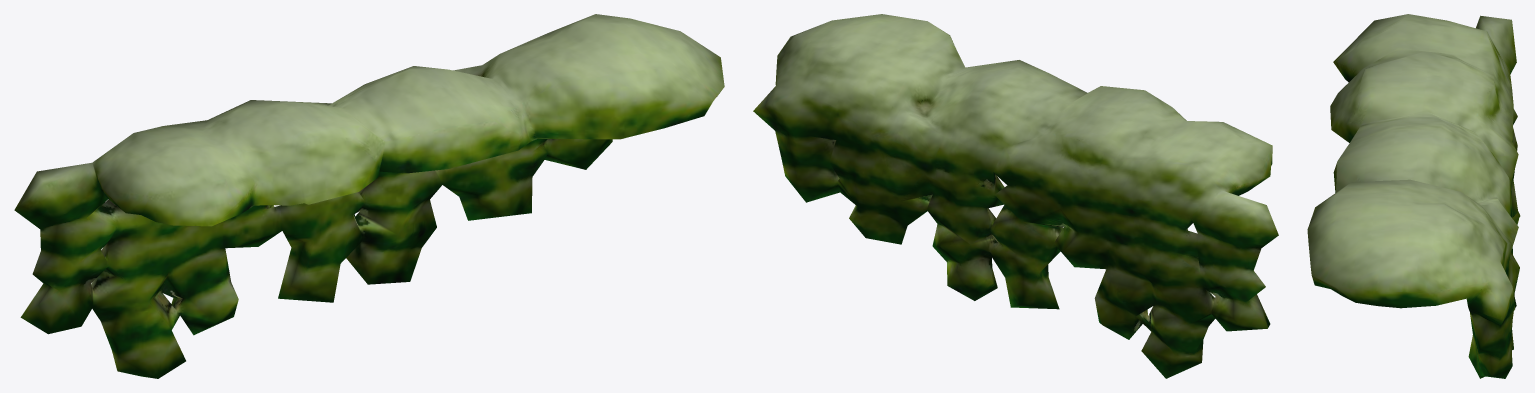
The model's file is moss_drape.glb.
The picture shows the model from 3 angles, left to right: view 1: azimuth 30°, elevation 25°; view 2: azimuth 150°, elevation 25°; view 3: azimuth 270°, elevation 25°; orthographic projection. The views are drawn at different scales.
Parts seen in each view (by area): view 1: moss; view 2: moss; view 3: moss.
Boxes of the visible parts, x1=… form: moss: x1=14, y1=14, x2=724, y2=378; moss: x1=753, y1=14, x2=1278, y2=378; moss: x1=1307, y1=14, x2=1520, y2=378.
Size of the model in its own units: 0.9372 by 0.3877 by 0.2822.
1 material, 1 textured.
